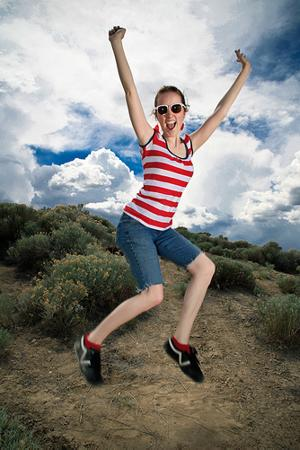person: (75, 22, 251, 384)
